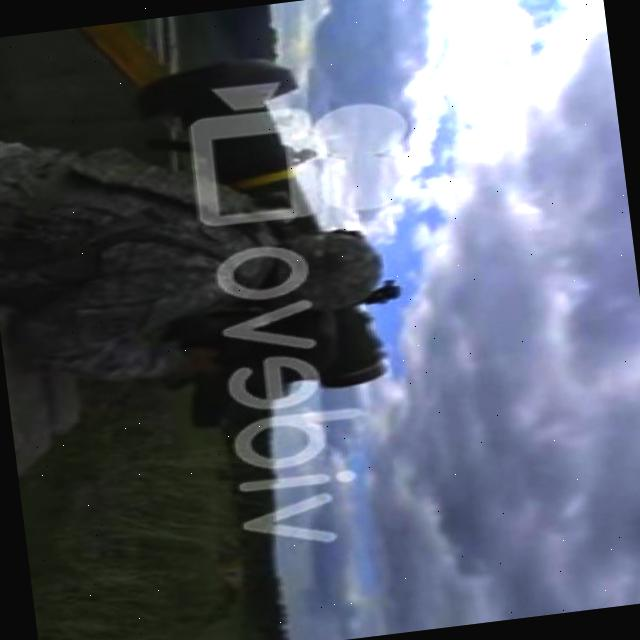rocket: (140, 45, 397, 407)
